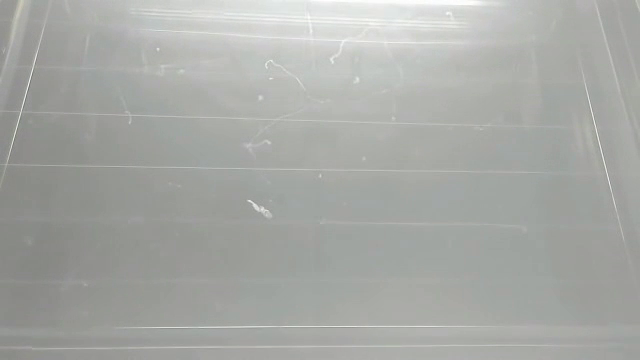alpha: (244, 196, 278, 222)
